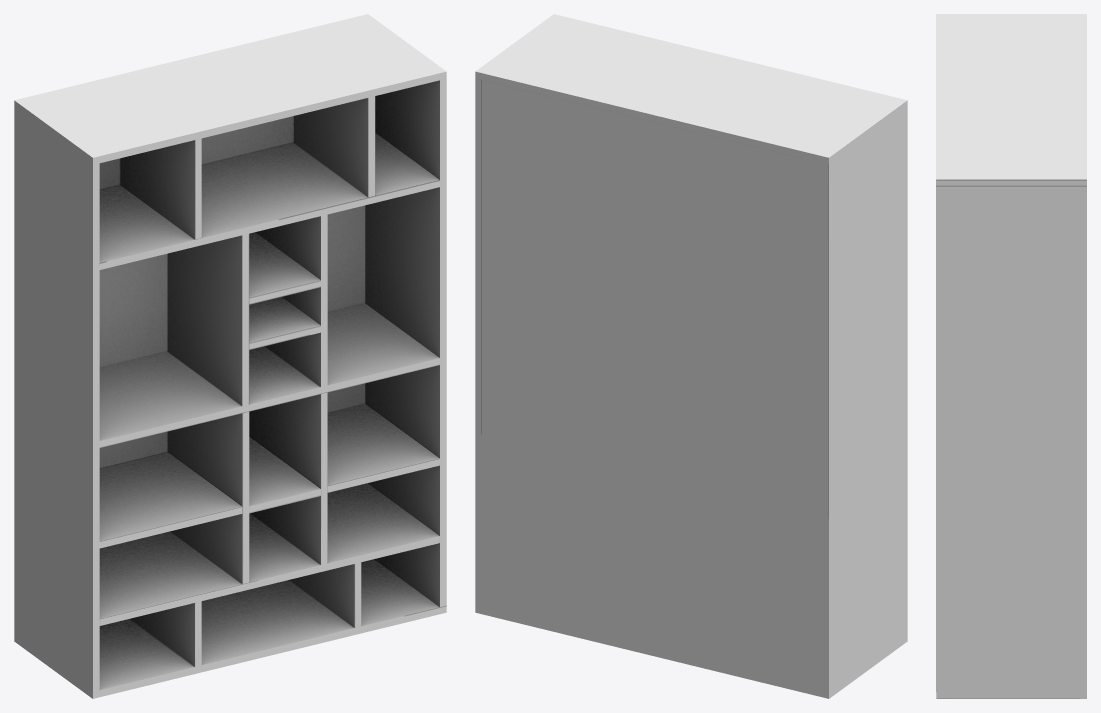
File: shelf_one_plain.glb
3 renders of one model, left to right at view 1: azimuth 30°, elevation 25°; view 2: azimuth 150°, elevation 25°; view 3: azimuth 270°, elevation 25°, orthographic. The views are drawn at different scales.
Parts seen in each view (by area): view 1: shelf_one_plain; view 2: shelf_one_plain; view 3: shelf_one_plain.
Part boxes in pixels (x1,y1,x2,y2): shelf_one_plain: (14,14,446,698); shelf_one_plain: (475,14,907,698); shelf_one_plain: (936,14,1086,698).
Size of the model in its own units: 1.72 by 2.51 by 0.6606.
Materials: 1 (1 with a texture image).
